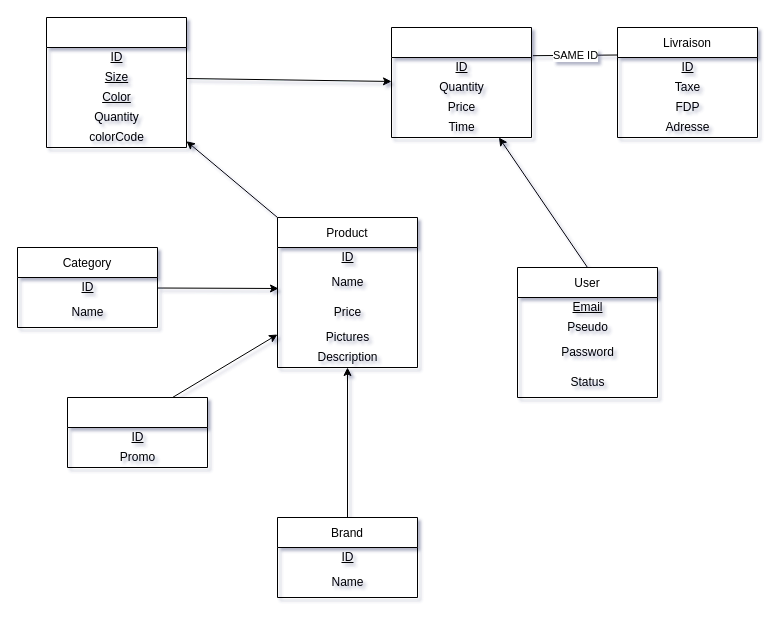
Image size: 781x621. Some labels were removed from this diagram. Each missing label, with the box of its shape:
Infos: (46, 16, 186, 148)
Order: (390, 26, 532, 138)
Promotion: (66, 396, 208, 468)
